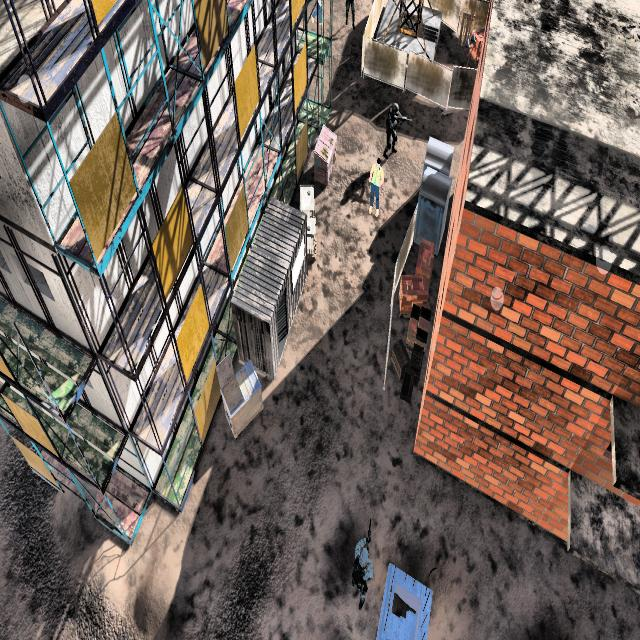bad: (343, 522, 377, 612), (383, 88, 406, 161), (342, 0, 361, 39)
good: (364, 151, 385, 222)
